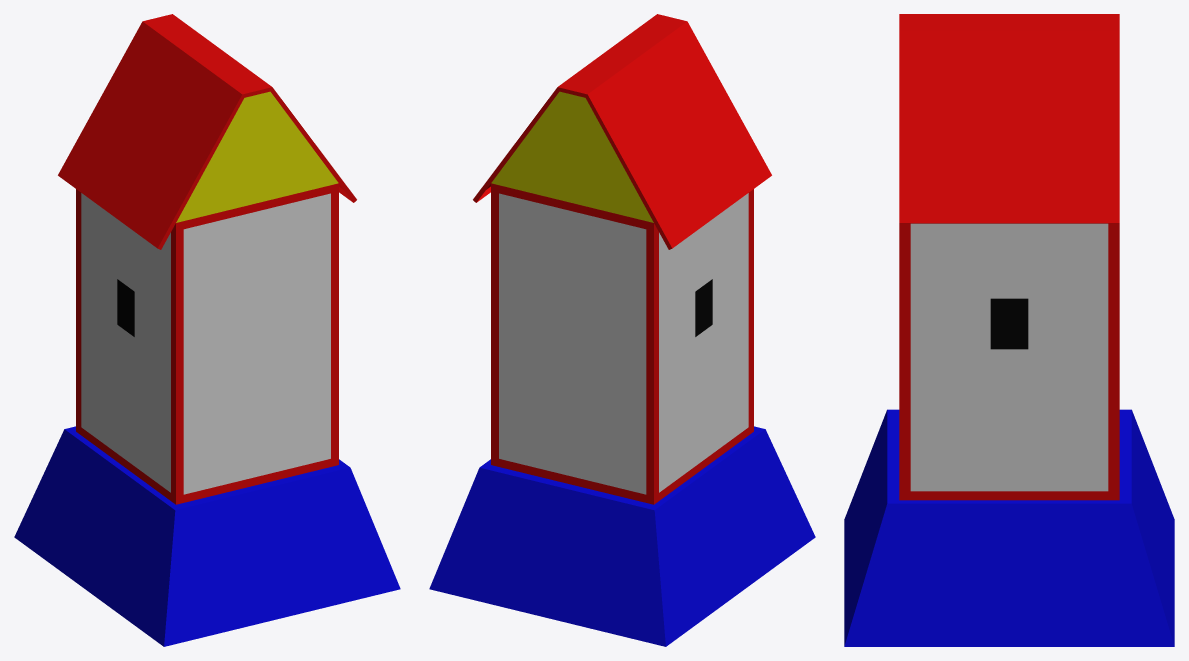
File: FBX_Windmill_02.fbx
3 renders of one model, left to right at view 1: azimuth 30°, elevation 25°; view 2: azimuth 150°, elevation 25°; view 3: azimuth 270°, elevation 25°, orthographic. The views are drawn at different scales.
Visible parts, largest first — view 1: Windmill_02; view 2: Windmill_02; view 3: Windmill_02.
Part boxes in pixels (x1,y1,x2,y2): Windmill_02: (14, 14, 400, 646); Windmill_02: (429, 14, 815, 646); Windmill_02: (844, 14, 1174, 646).
Size of the model in its own units: 151 by 310 by 165.
